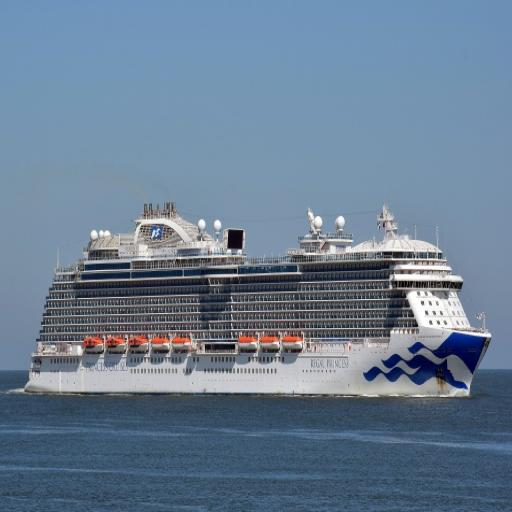cruises: (24, 183, 491, 402)
